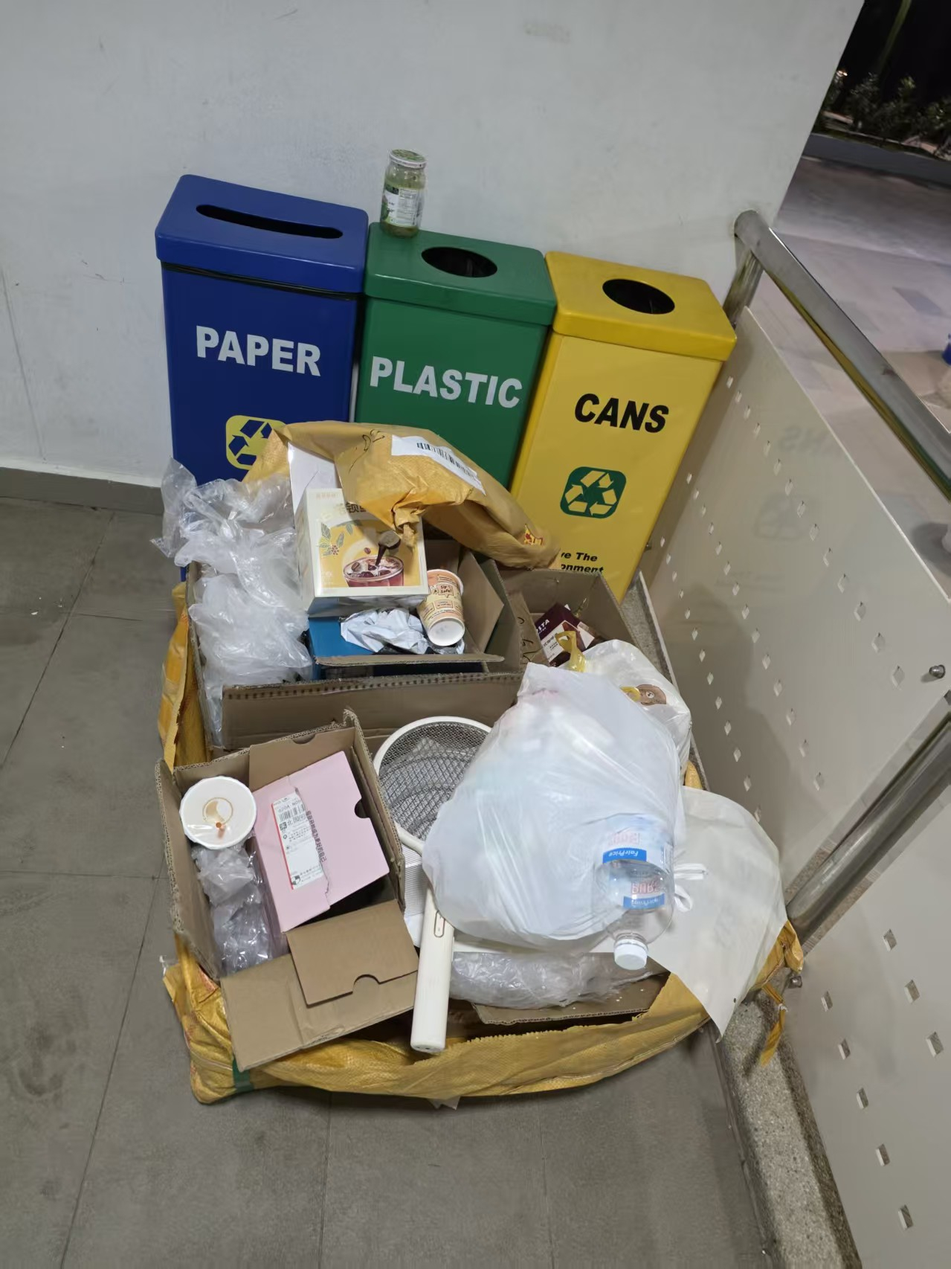bin_empty: (509, 252, 735, 598), (155, 176, 367, 479), (355, 211, 554, 486)
bulk_waste: (173, 665, 802, 1099), (205, 556, 668, 750), (159, 722, 417, 1070)
normal_waste: (423, 664, 686, 951), (243, 420, 558, 568), (153, 461, 310, 744), (380, 150, 425, 237)
